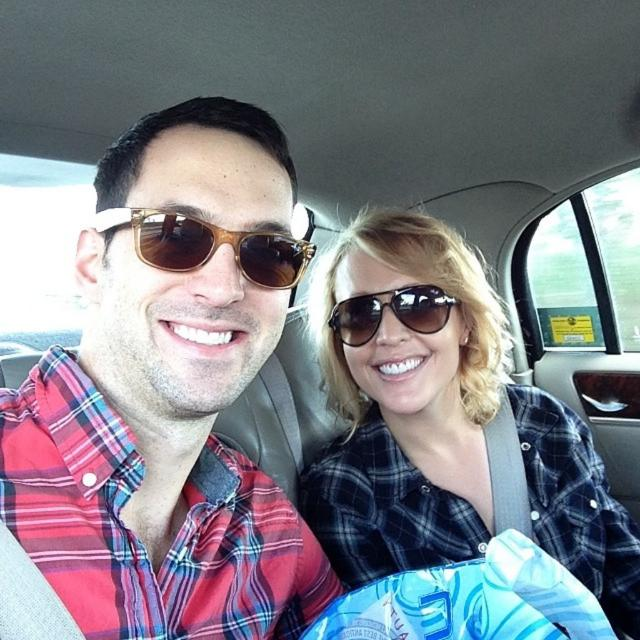Seatbelt: (0, 517, 84, 639)
